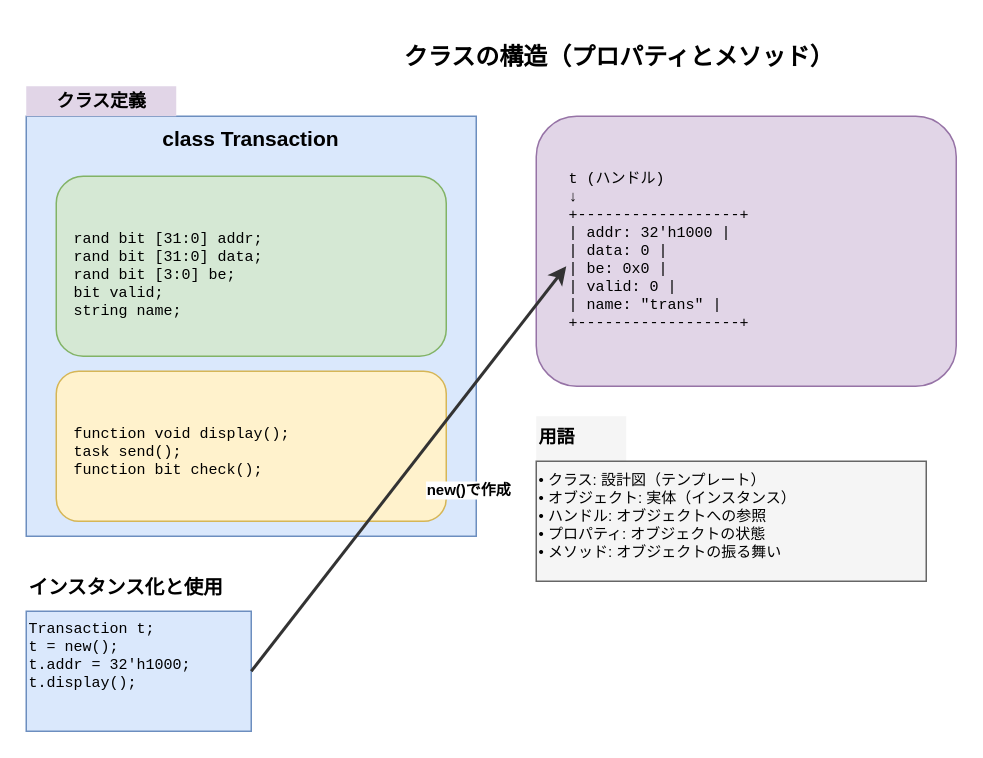
This 983x758 diagram has some shape labels left out. Here are the shapes that lost their labels. From the top down, the box of each, then its label:
(55, 175, 446, 356): プロパティ（データメンバ）
(535, 115, 956, 386): オブジェクト（インスタンス）
(55, 370, 446, 521): メソッド（関数・タスク）
